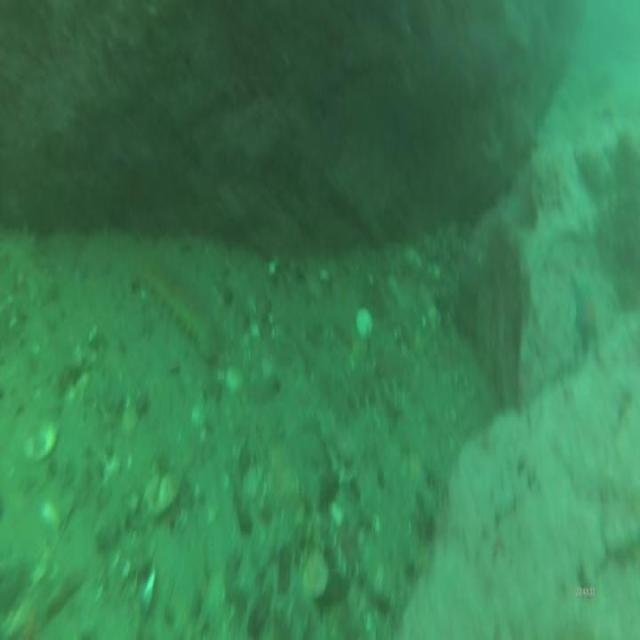holothurian: (142, 269, 220, 371), (343, 340, 414, 411), (0, 224, 58, 308)
starfish: (568, 266, 603, 366)
